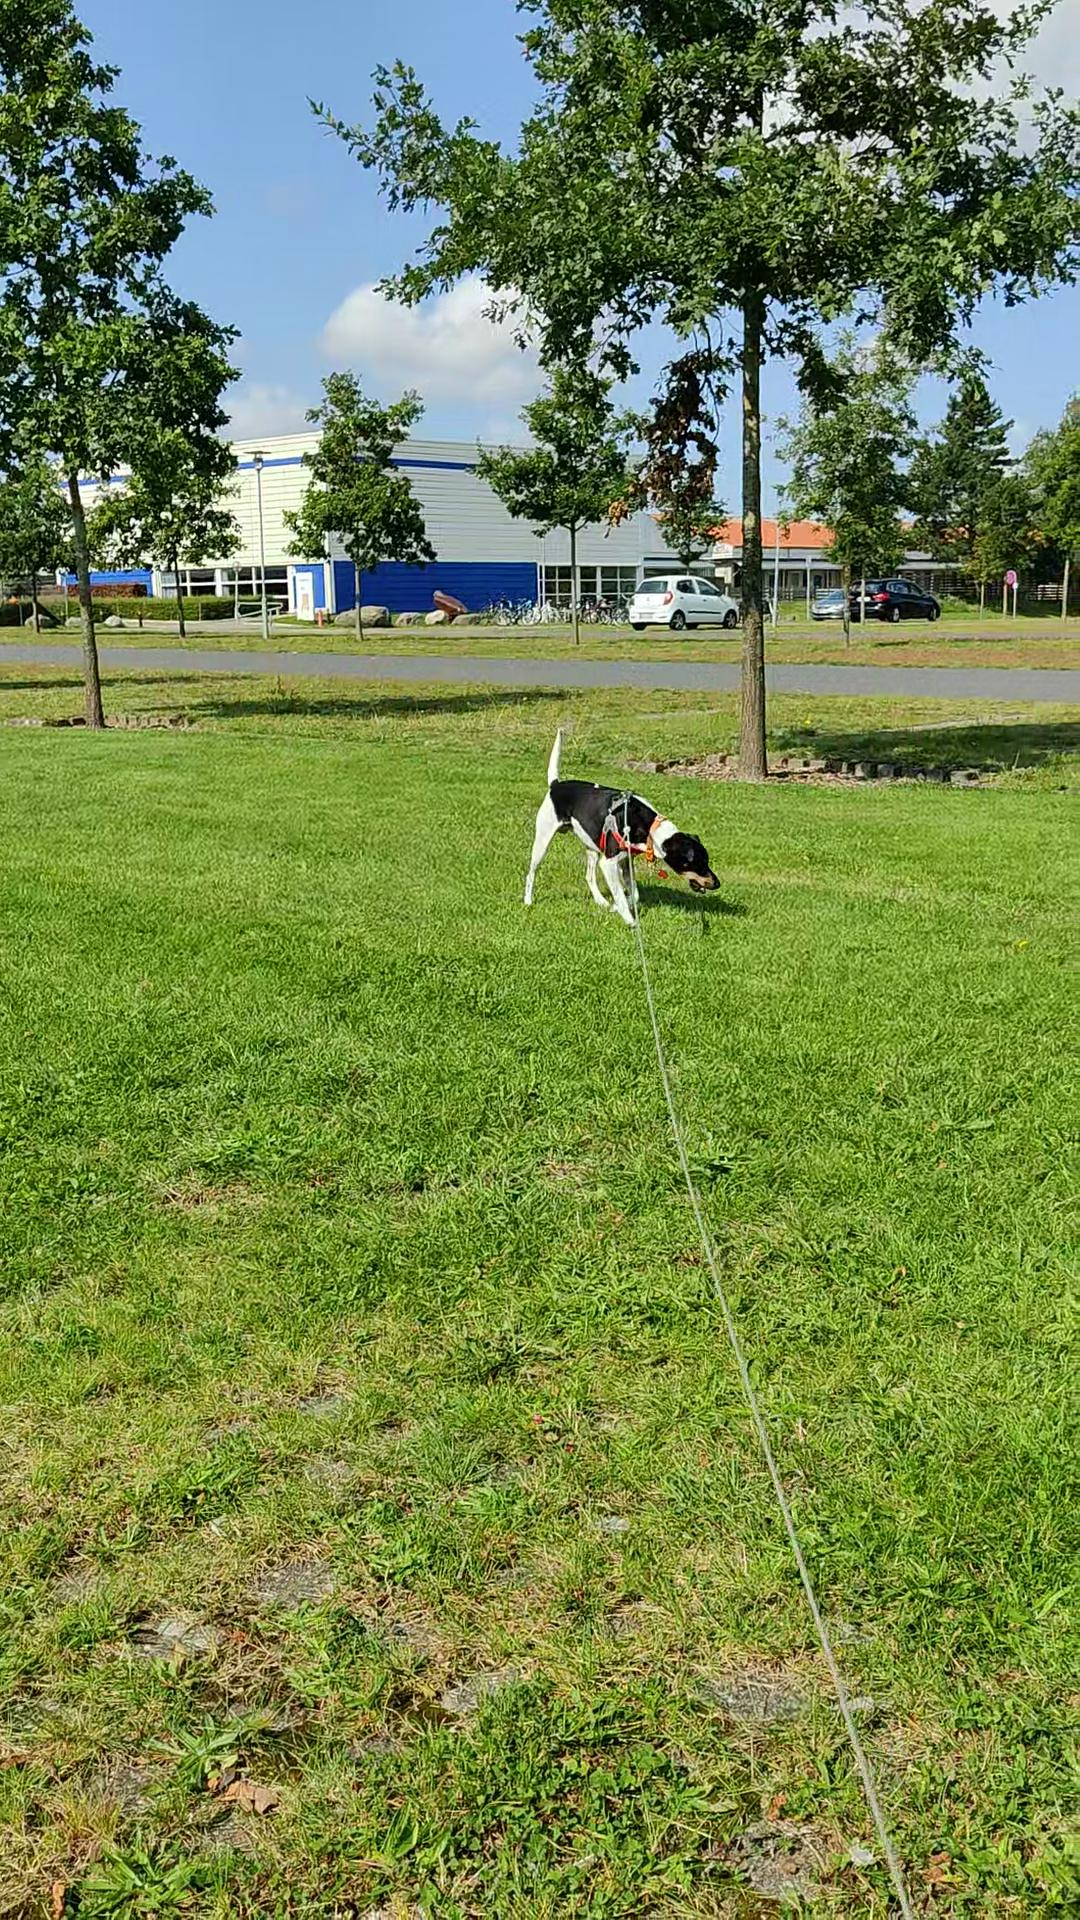Dog: (520, 724, 723, 932)
